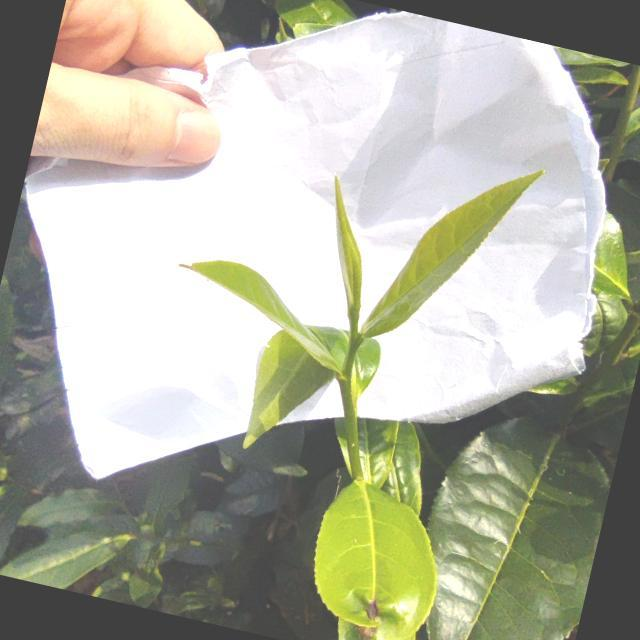Stem: (340, 379, 352, 412)
